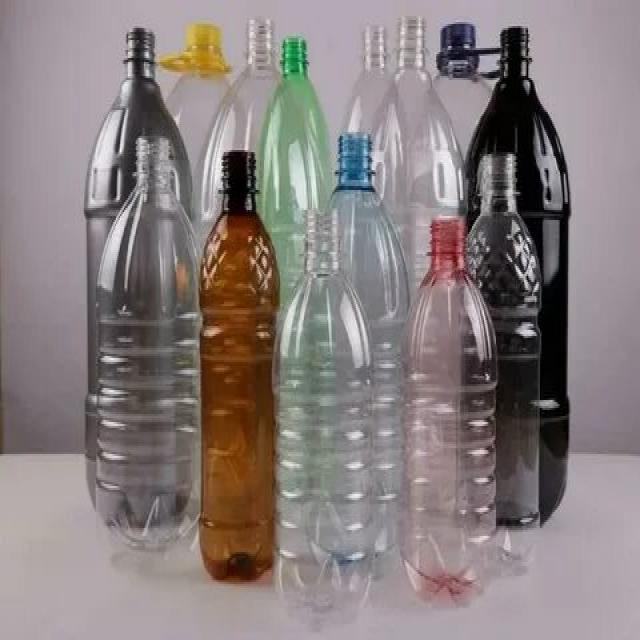blue: (331, 128, 410, 397)
brown: (201, 150, 278, 578), (461, 25, 566, 152)
green: (266, 35, 332, 230)
